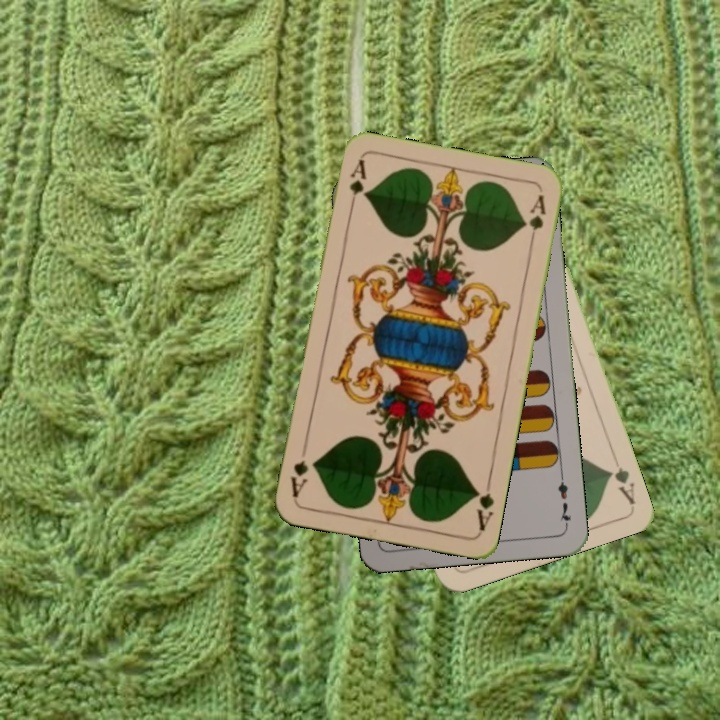E7: (553, 470, 574, 530)
GA: (470, 474, 497, 534), (603, 462, 638, 508), (345, 155, 368, 214)
